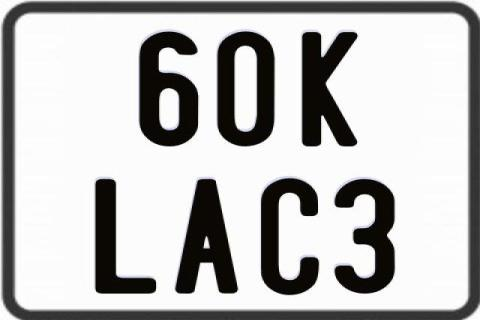0: (138, 31, 203, 147), (214, 30, 276, 148), (333, 179, 396, 295)
A: (174, 177, 236, 291)
C: (261, 178, 325, 296)
K: (299, 30, 357, 146)
L: (95, 177, 161, 297)
